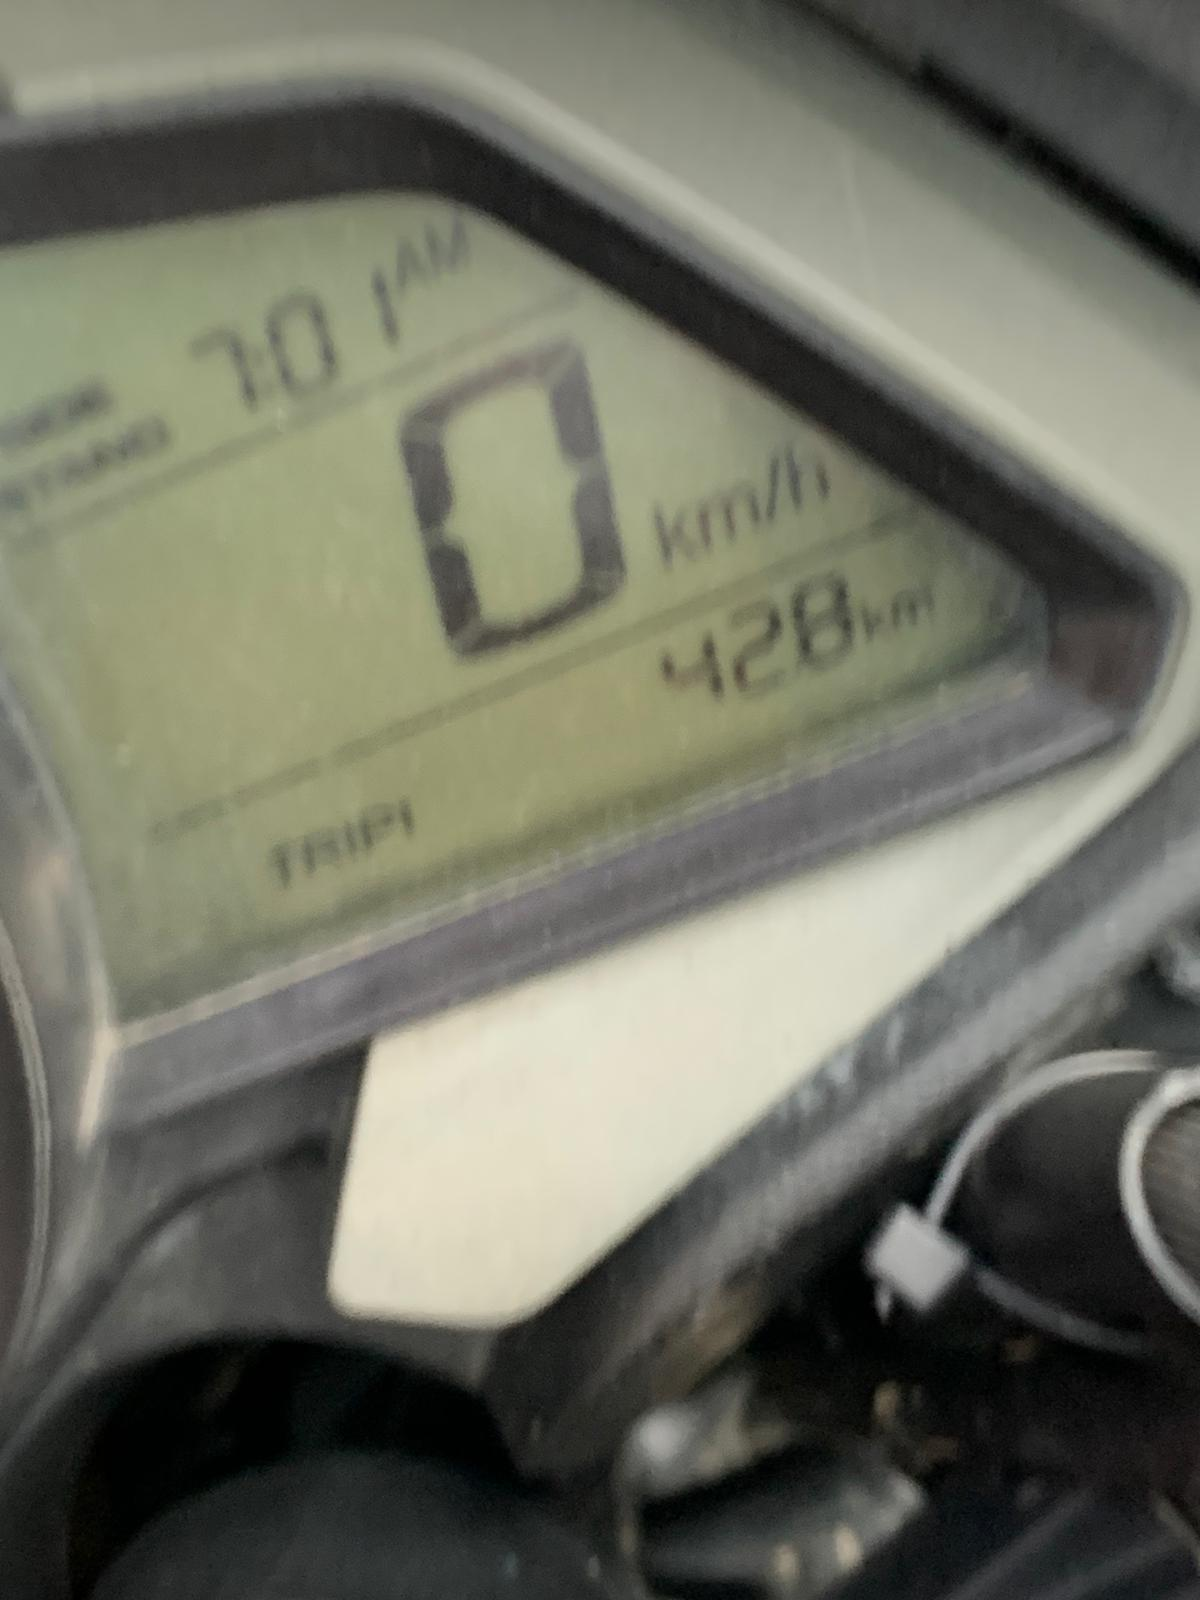,: (785, 658, 814, 690)
0: (400, 344, 623, 637), (270, 289, 342, 402)
1: (366, 271, 403, 357), (398, 790, 420, 831)
2: (729, 605, 785, 702)
4: (655, 624, 721, 714)
7: (188, 321, 258, 414)
8: (792, 572, 857, 665)
X: (700, 479, 759, 548), (784, 428, 832, 514), (648, 488, 695, 568), (382, 239, 437, 295), (424, 213, 471, 271), (262, 831, 297, 900), (303, 824, 338, 881), (361, 800, 393, 855), (763, 445, 784, 529), (892, 588, 937, 627), (250, 341, 279, 399), (863, 596, 890, 648), (343, 814, 361, 877)
odometer: (0, 154, 1119, 1038)
